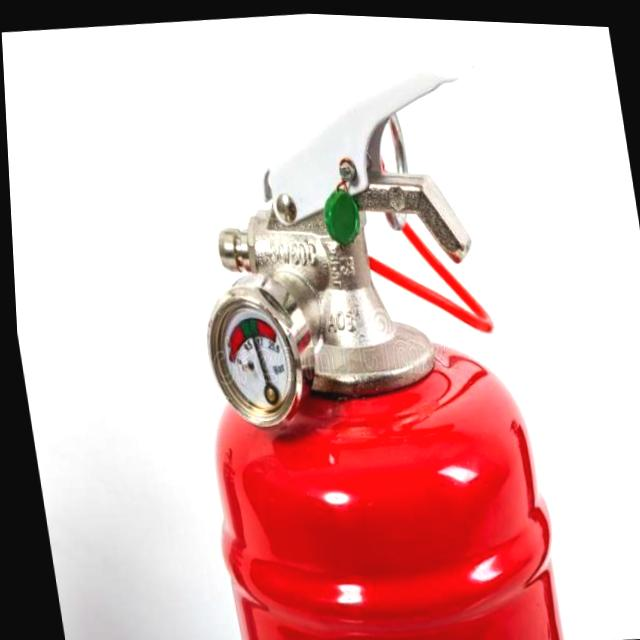FireExtinguisher: (136, 23, 565, 640)
